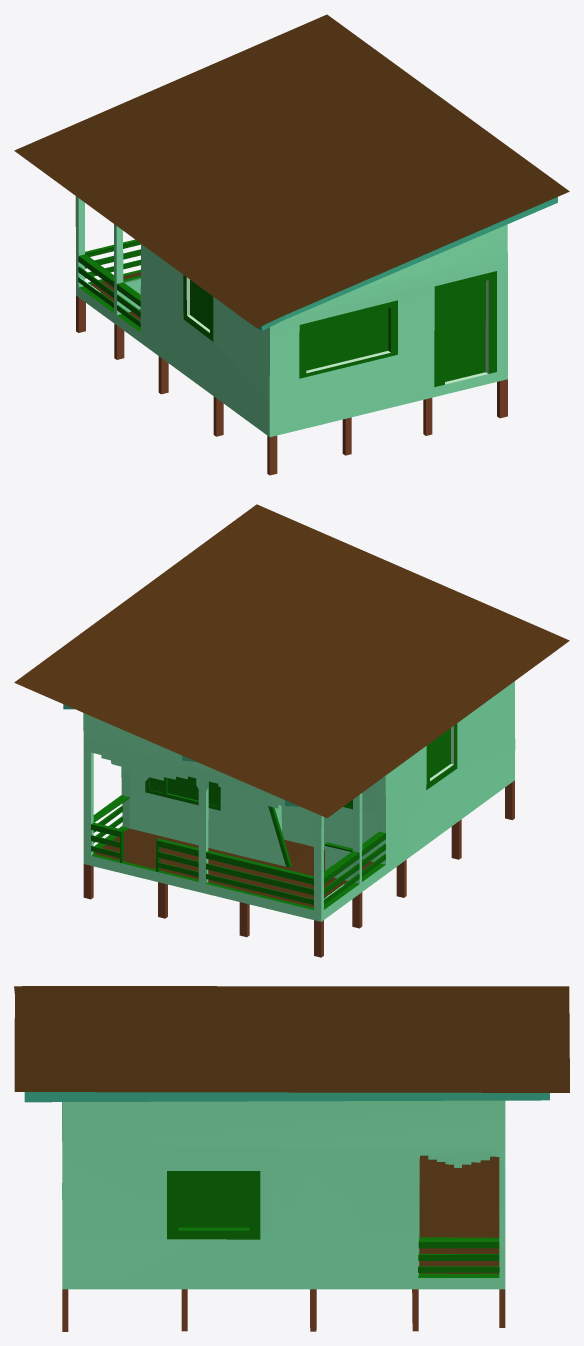
The model's file is Palafita5.fbx.
3 views of the same model, one above another, from view 1: azimuth 30°, elevation 25°; view 2: azimuth 150°, elevation 25°; view 3: azimuth 270°, elevation 25° (orthographic). The views are drawn at different scales.
Parts seen in each view (by area): view 1: Cubo; view 2: Cubo; view 3: Cubo.
Part boxes in pixels (x1,y1,x2,y2): Cubo: (14,14,569,475); Cubo: (14,504,569,957); Cubo: (14,986,569,1331).
Size of the model in its own units: 525 by 371 by 706.
